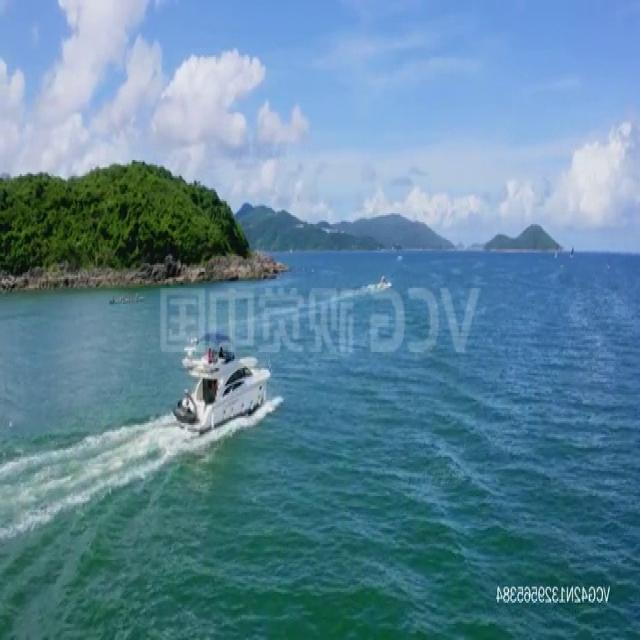houseboat: (170, 354, 270, 427), (372, 271, 393, 293)
